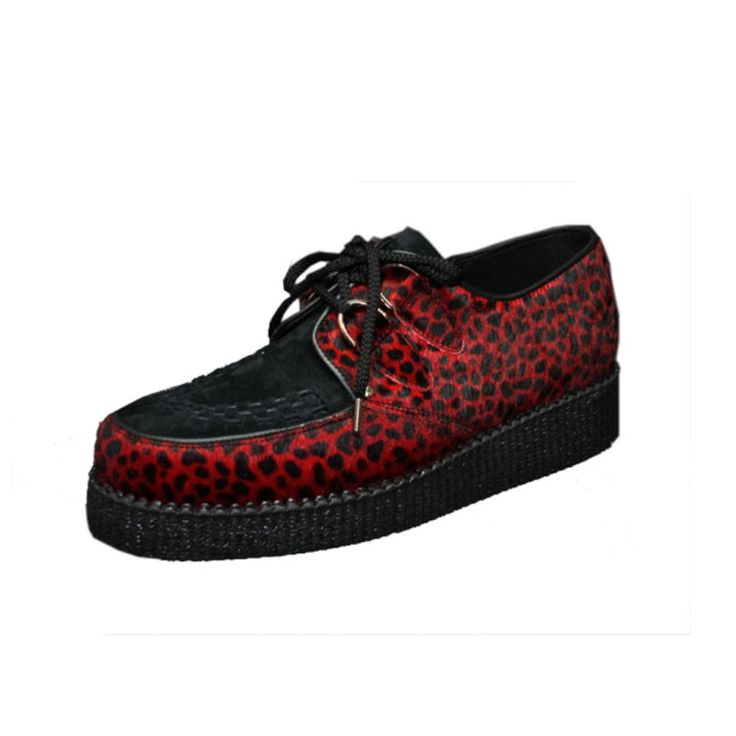gamuza: (92, 223, 622, 509)
